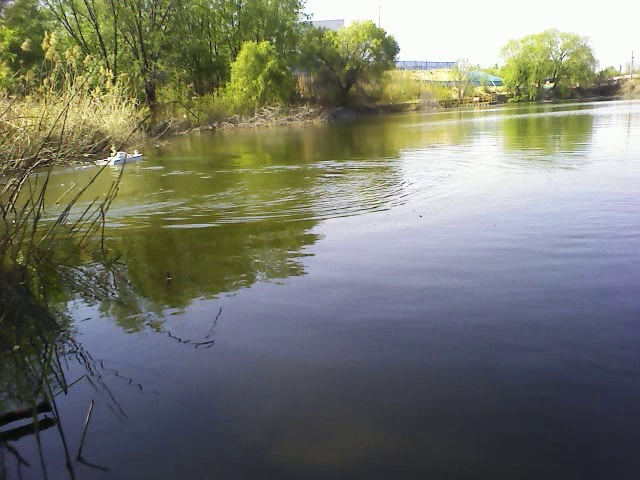boat: (98, 148, 147, 169)
